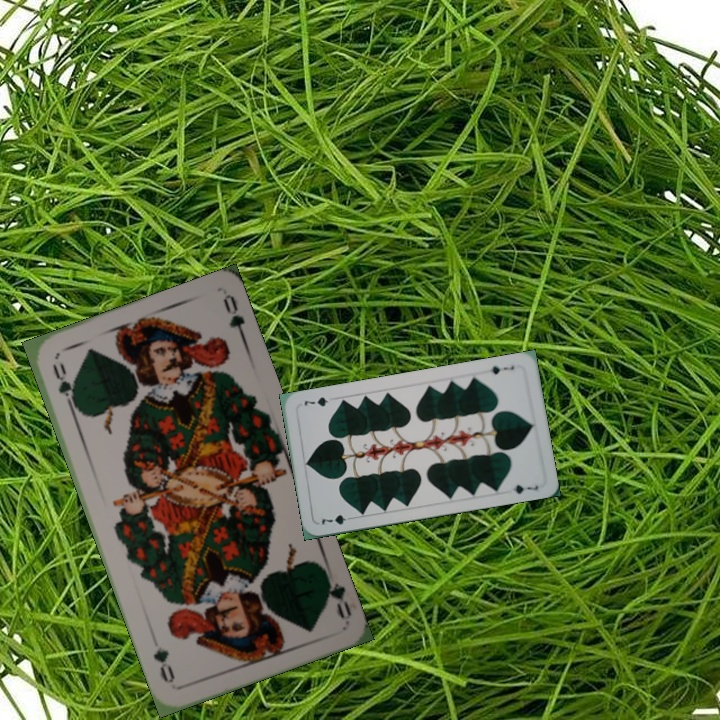G7: (317, 510, 357, 527), (486, 362, 517, 377)
GO: (321, 566, 354, 622), (48, 358, 81, 414)
